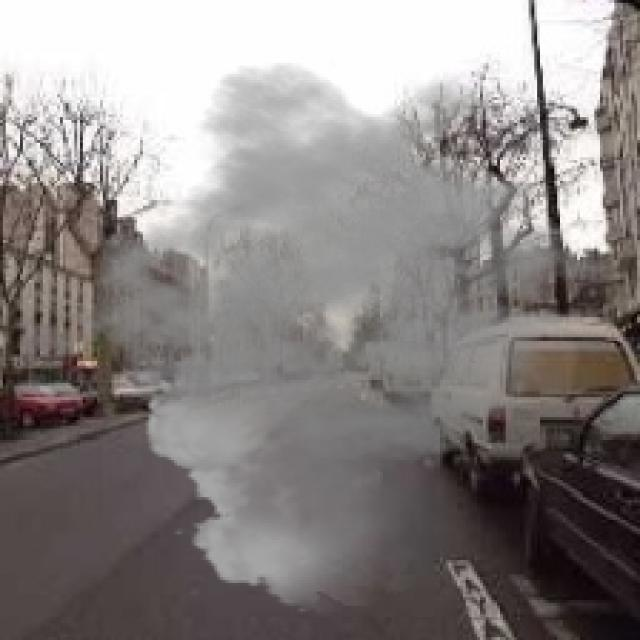smoke: (75, 60, 634, 614)
